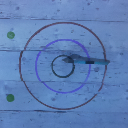Axe Tip: (61, 58, 76, 60)
